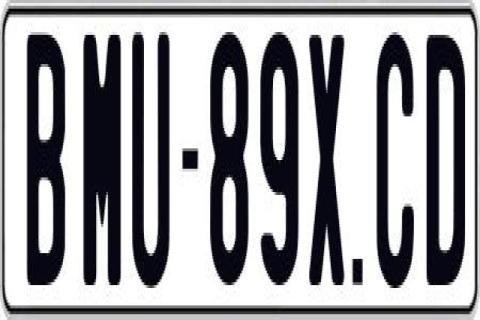0: (208, 32, 253, 294), (260, 23, 302, 285)
B: (27, 35, 65, 291)
C: (376, 35, 419, 303)
D: (424, 29, 464, 279)
M: (83, 29, 121, 285)
U: (130, 29, 172, 303)
X: (308, 35, 344, 294)
